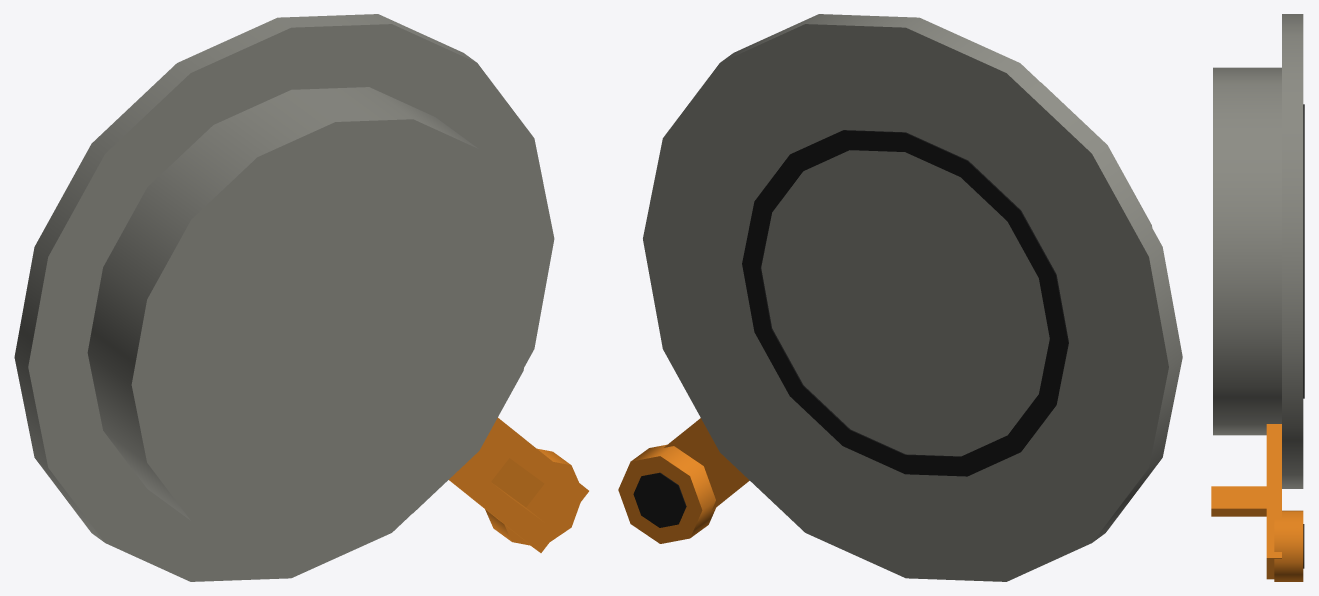
File: bunk500_flange_fore.obj
3 renders of one model, left to right at view 1: azimuth 30°, elevation 25°; view 2: azimuth 150°, elevation 25°; view 3: azimuth 270°, elevation 25°, orthographic. The views are drawn at different scales.
Visible parts, largest first — view 1: bunk500_flange_fore; view 2: bunk500_flange_fore; view 3: bunk500_flange_fore.
Boxes of the visible parts, x1,y1,x2,y2 form: bunk500_flange_fore: (14, 14, 588, 581); bunk500_flange_fore: (618, 14, 1182, 581); bunk500_flange_fore: (1211, 14, 1304, 581).
Bounding box in the file's own units: 3.25 × 3.25 × 0.6072.
